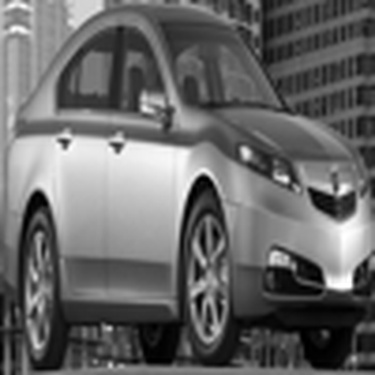car: (7, 4, 366, 331)
